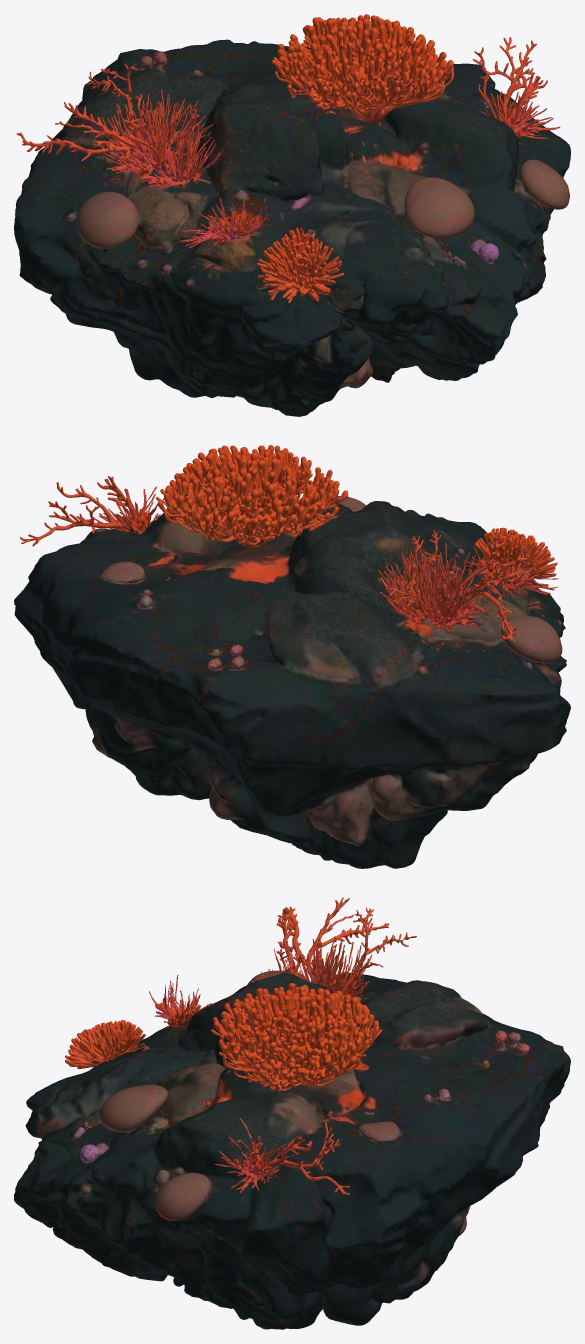
Rendered from ledge.glb.
The picture shows the model from 3 angles, top to bottom: view 1: azimuth 30°, elevation 25°; view 2: azimuth 150°, elevation 25°; view 3: azimuth 270°, elevation 25°; orthographic projection. The views are drawn at different scales.
Bounding box in the file's own units: 1.9 × 1.23 × 1.82.
Materials: 1 (1 with a texture image).
